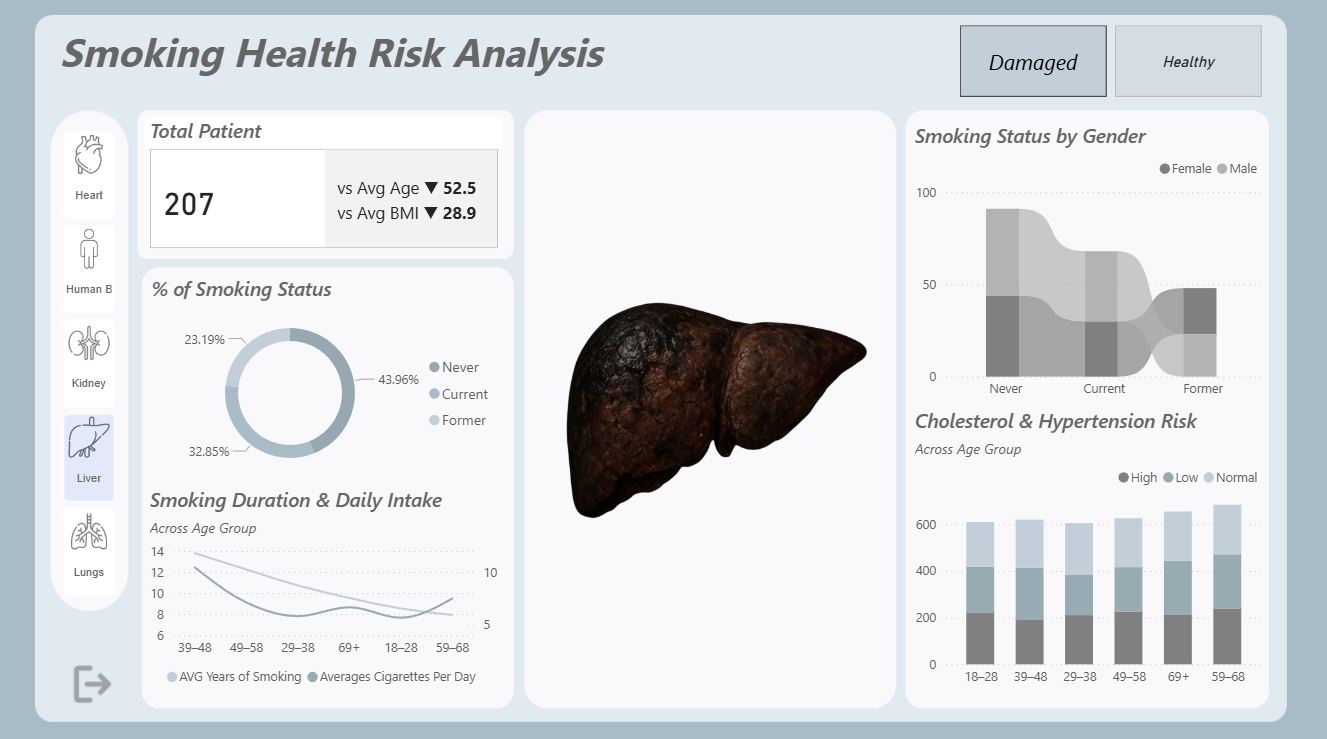

The page's visual inventory and layout, read from the dashboard file:
{"tool":"powerbi","page":{"name":"Page 1","canvas":[1280,720],"ordinal":0},"visuals":[{"type":"advancedSlicerVisual","fields":{"Values":["condition.Organ_Condition"]},"box":[918.6,25.7,298.6,78.6],"z":0},{"type":"cardVisual","title":"Total Patient","fields":{"Data":["CountNonNull(health_dataset.Patient_ID)"]},"box":[145,118.8,342,130],"z":1000},{"type":"ChicletSlicer1448559807354","fields":{"Category":["Organs.Organ"],"Image":["Organs.Icon_URL"]},"box":[58.9,123.2,86.8,465.3],"z":2000},{"type":"image","box":[515,118.3,342,553.3],"z":3000},{"type":"donutChart","title":"% of Smoking Status","fields":{"Category":["health_dataset.Smoking_Status"],"Y":["CountNonNull(health_dataset.Smoking_Status)"]},"box":[145.7,270,341.4,200],"z":4000},{"type":"lineChart","title":"Smoking Duration & Daily Intake","fields":{"Category":["health_dataset.Age Group"],"Y":["Avg(health_dataset.Years_of_Smoking)"],"Y2":["Avg(health_dataset.Cigarettes_Per_Day)"]},"box":[144.3,471.4,341.4,200],"z":5000},{"type":"ribbonChart","title":"Smoking Status by Gender","fields":{"Category":["health_dataset.Smoking_Status"],"Y":["CountNonNull(health_dataset.Patient_ID)"],"Series":["health_dataset.Gender"]},"box":[875.7,122.9,341.4,272.9],"z":6000},{"type":"columnChart","title":"Cholesterol & Hypertension Risk","fields":{"Category":["health_dataset.Age Group"],"Y":["Avg(health_dataset.Cholesterol_Level)"],"Series":["health_dataset.BP_Risk"]},"box":[875.7,395.7,342,275.7],"z":7000},{"type":"textbox","box":[58.6,25.7,547.1,64.3],"z":7001}]}

Visuals, with their boxes in screenshot pixels (x1, y1, x2, y2), scaled from the page's 1280x720 canvas onto the 1327x739 screenshot:
advancedSlicerVisual - condition.Organ_Condition: 952:26:1262:107
"Total Patient" cardVisual: 150:122:505:255
ChicletSlicer1448559807354 - Organs.Organ x Organs.Icon_URL: 61:126:151:604
image: 534:121:888:689
"% of Smoking Status" donutChart: 151:277:505:482
"Smoking Duration & Daily Intake" lineChart: 150:484:504:689
"Smoking Status by Gender" ribbonChart: 908:126:1262:406
"Cholesterol & Hypertension Risk" columnChart: 908:406:1262:689
textbox: 61:26:628:92
